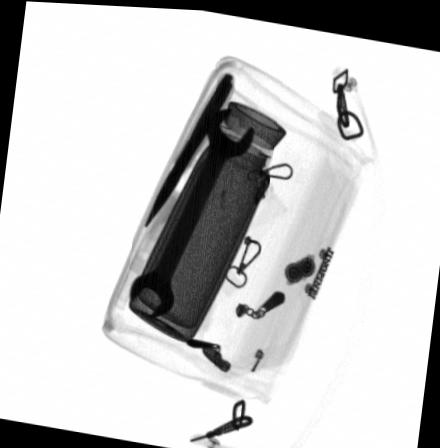Pliers: (143, 69, 233, 227)
Wrench: (129, 104, 255, 317)
